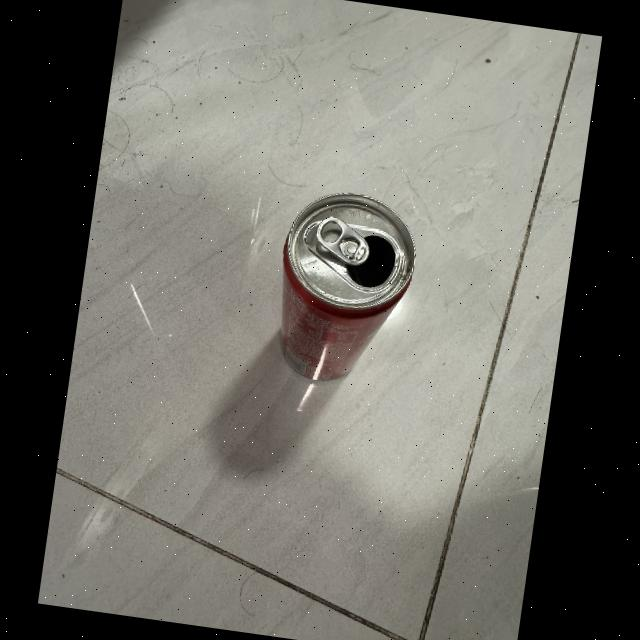Cola: (259, 165, 433, 404)
